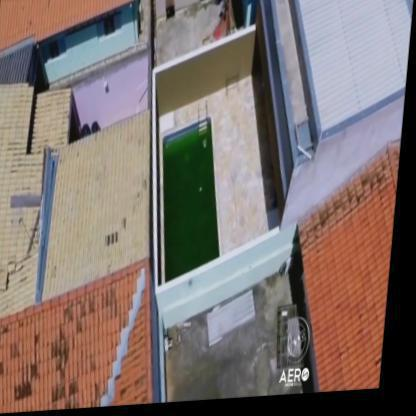agua: (175, 177, 221, 275)
